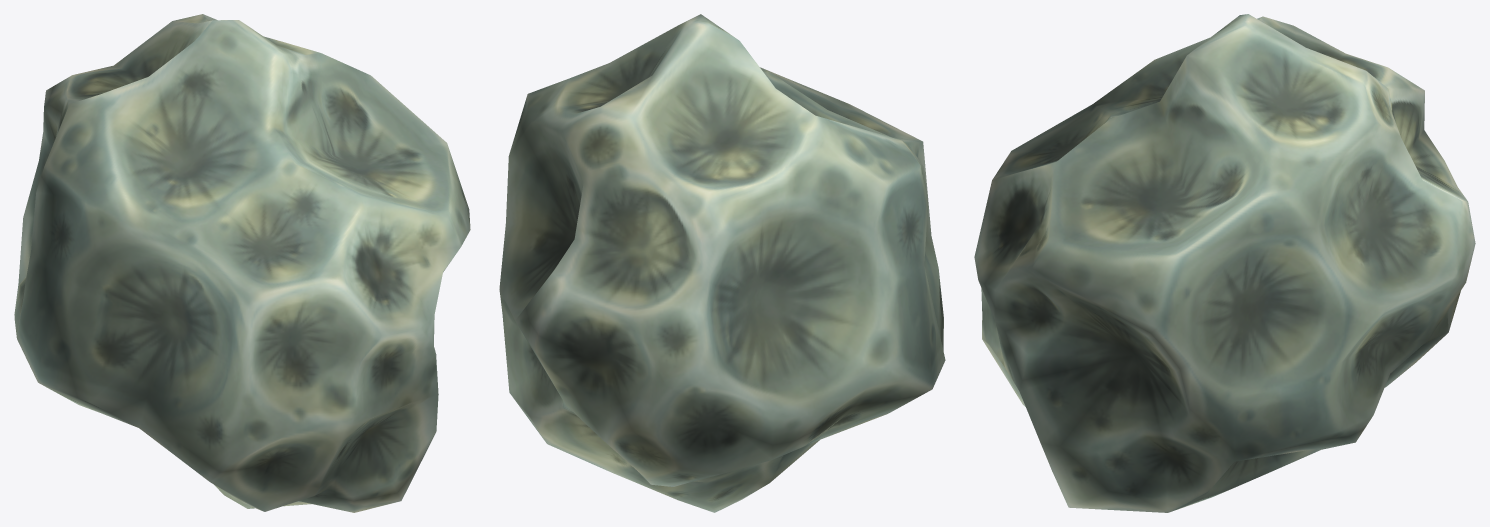
The model's file is asteroid_4_0.fbx.
3 renders of one model, left to right at view 1: azimuth 30°, elevation 25°; view 2: azimuth 150°, elevation 25°; view 3: azimuth 270°, elevation 25°, orthographic. The views are drawn at different scales.
Parts seen in each view (by area): view 1: A4_LOD0; view 2: A4_LOD0; view 3: A4_LOD0.
Part boxes in pixels (x1,y1,x2,y2): A4_LOD0: (14, 14, 470, 512); A4_LOD0: (499, 14, 945, 512); A4_LOD0: (974, 14, 1475, 512).
Size of the model in its own units: 0.6613 by 0.7412 by 0.7063.
